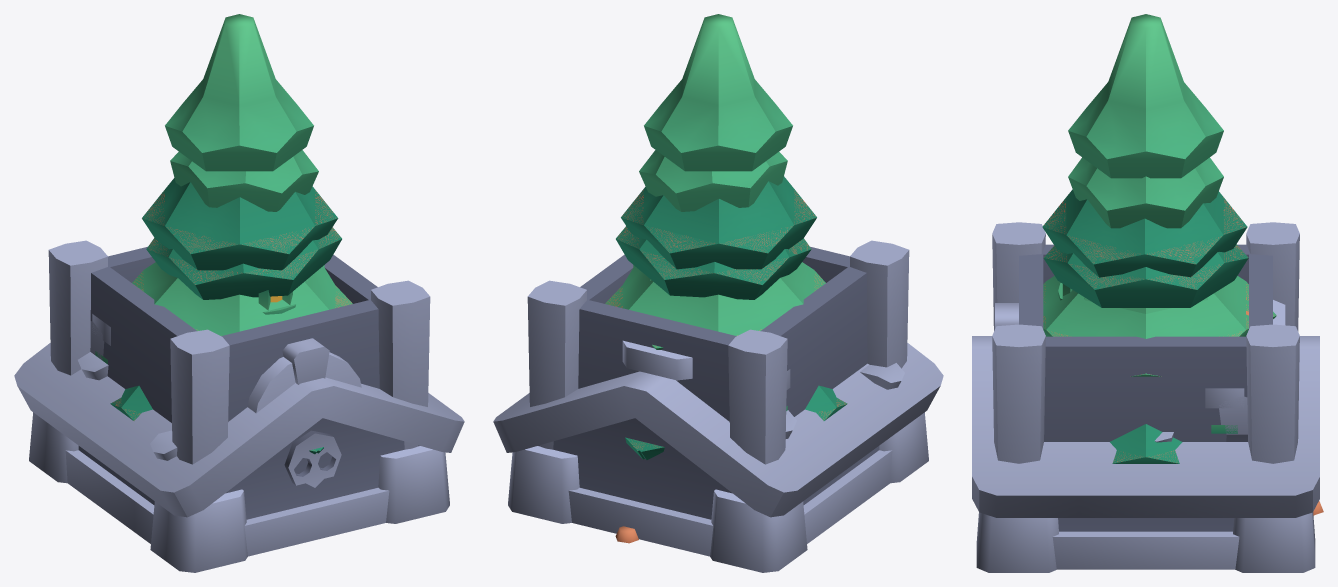
File: kit_grave.glb
3 renders of one model, left to right at view 1: azimuth 30°, elevation 25°; view 2: azimuth 150°, elevation 25°; view 3: azimuth 270°, elevation 25°, orthographic. The views are drawn at different scales.
Visible parts, largest first — view 1: crypt-small, crypt-small-roof, pine, pine-crooked; view 2: crypt-small, crypt-small-roof, pine, pine-crooked, stone-wall-column; view 3: crypt-small, crypt-small-roof, pine, pine-crooked, stone-wall, iron-fence-border-column.
Boxes of the visible parts, left/top/right/bottom form: crypt-small: left=29, top=240, right=449, bottom=572; crypt-small-roof: left=14, top=343, right=464, bottom=556; pine: left=110, top=14, right=352, bottom=454; pine-crooked: left=137, top=150, right=341, bottom=453; crypt-small: left=508, top=240, right=928, bottom=572; crypt-small-roof: left=493, top=343, right=943, bottom=556; pine: left=605, top=14, right=847, bottom=459; pine-crooked: left=616, top=150, right=820, bottom=459; stone-wall-column: left=622, top=340, right=692, bottom=381; crypt-small: left=976, top=222, right=1315, bottom=572; crypt-small-roof: left=972, top=336, right=1319, bottom=569; pine: left=1042, top=14, right=1276, bottom=338; pine-crooked: left=1043, top=157, right=1248, bottom=463; stone-wall: left=1219, top=396, right=1247, bottom=441; iron-fence-border-column: left=1205, top=388, right=1244, bottom=408.
Size of the model in its own units: 1.5 by 2.3 by 1.45.
Materials: 1 (1 with a texture image).
